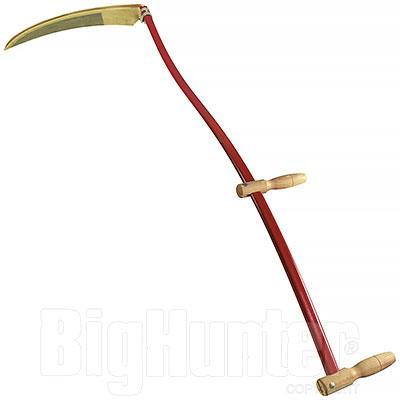foice: (1, 5, 224, 119)
